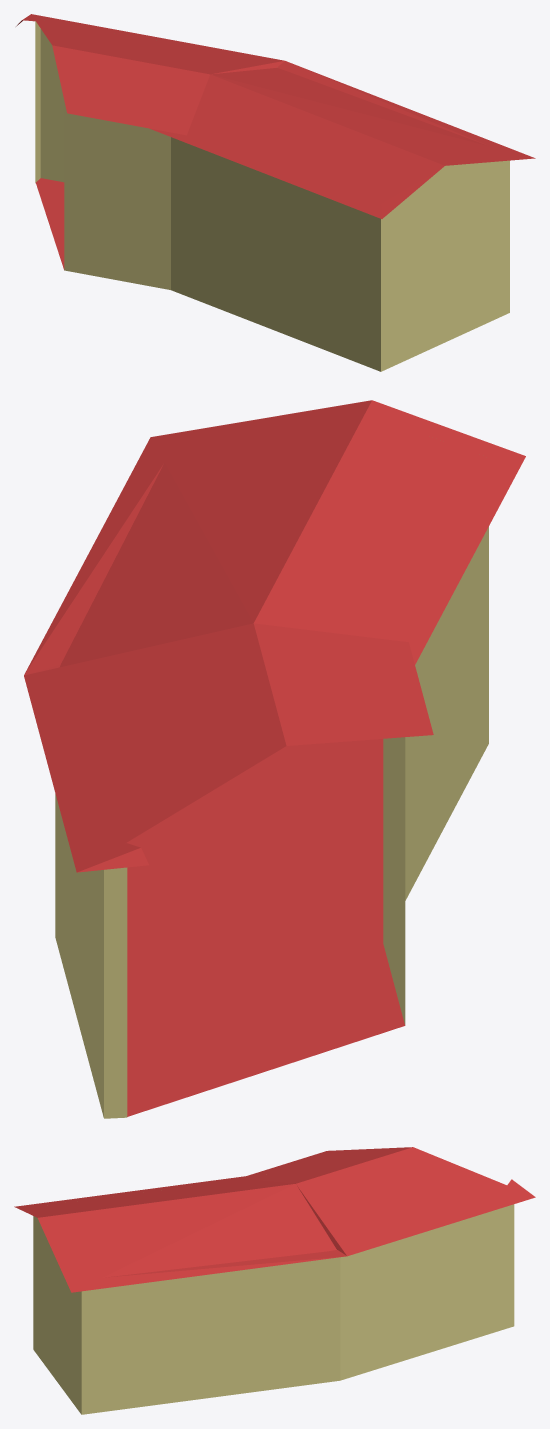
The picture shows the model from 3 angles, top to bottom: view 1: azimuth 30°, elevation 25°; view 2: azimuth 150°, elevation 25°; view 3: azimuth 270°, elevation 25°; orthographic projection. The views are drawn at different scales.
Size of the model in its own units: 15.05 by 25.25 by 8.5.
